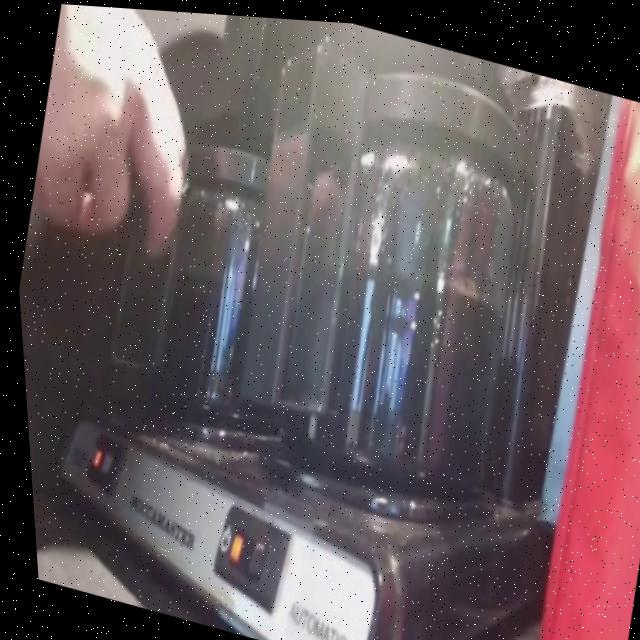coffee: (231, 20, 574, 524), (101, 96, 354, 450)
